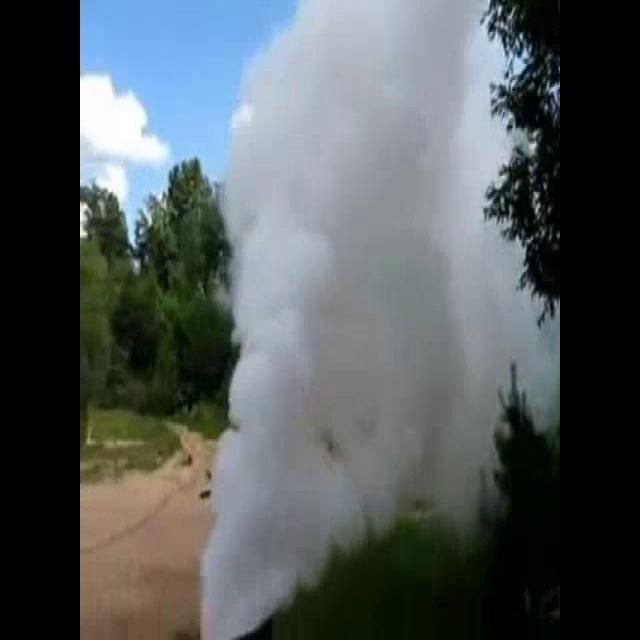Smoke: (220, 0, 561, 516), (199, 201, 395, 640)
